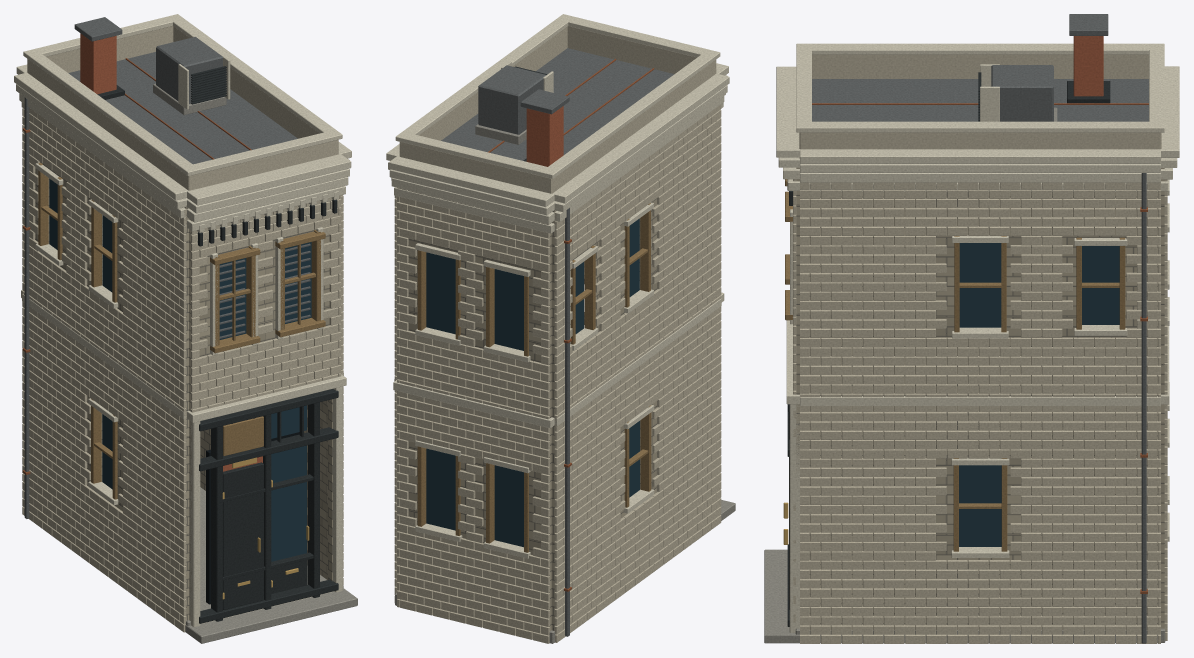
The model's file is BUSS10_lod0.glb.
The picture shows the model from 3 angles, left to right: view 1: azimuth 30°, elevation 25°; view 2: azimuth 150°, elevation 25°; view 3: azimuth 270°, elevation 25°; orthographic projection. The views are drawn at different scales.
Visible parts, largest first — view 1: BUSS10_LOD0; view 2: BUSS10_LOD0; view 3: BUSS10_LOD0.
Part boxes in pixels (<box>): BUSS10_LOD0: <box>14,14,357,643</box>; BUSS10_LOD0: <box>386,14,735,643</box>; BUSS10_LOD0: <box>764,14,1179,643</box>.
Bounding box in the file's own units: 3.78 × 10.25 × 6.9.
Materials: 14 (11 with a texture image).
